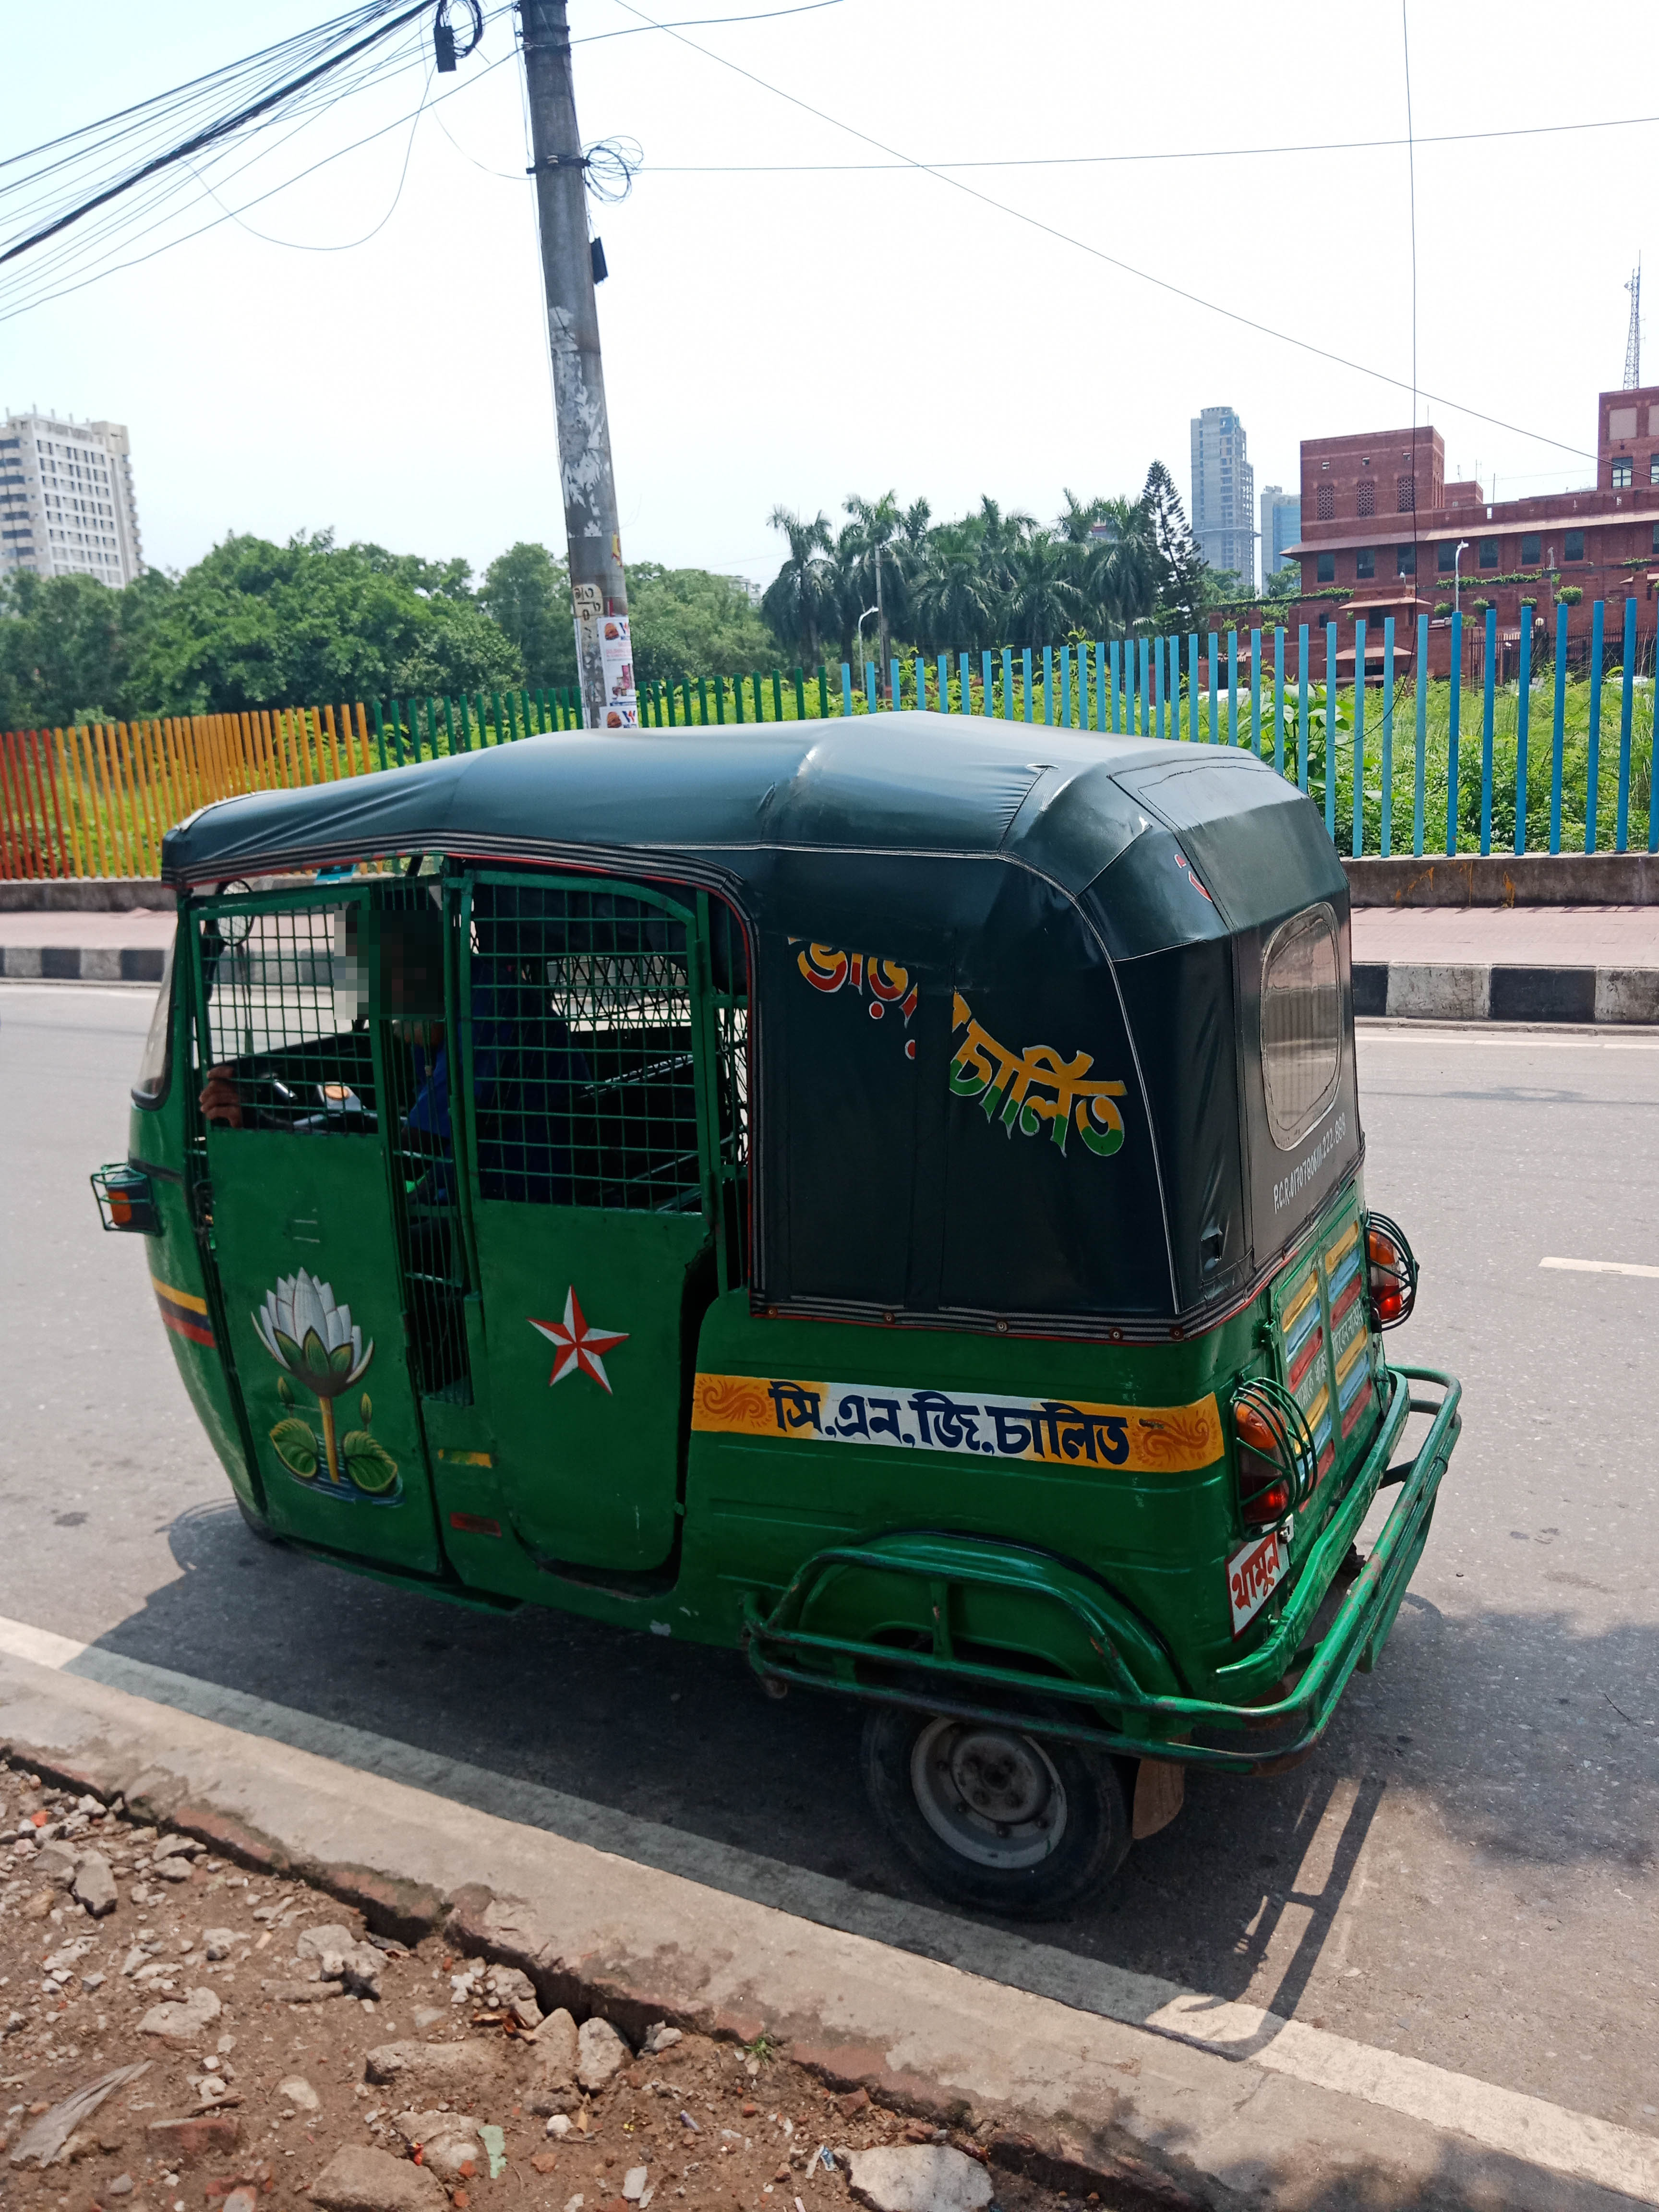cng: (85, 698, 1478, 1933)
